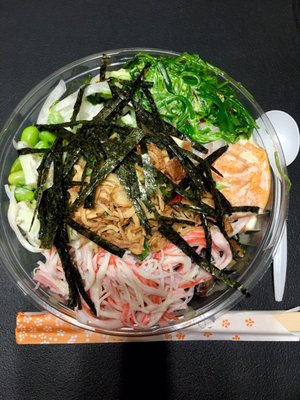soup: (209, 141, 271, 212)
sushi: (0, 46, 298, 351)
